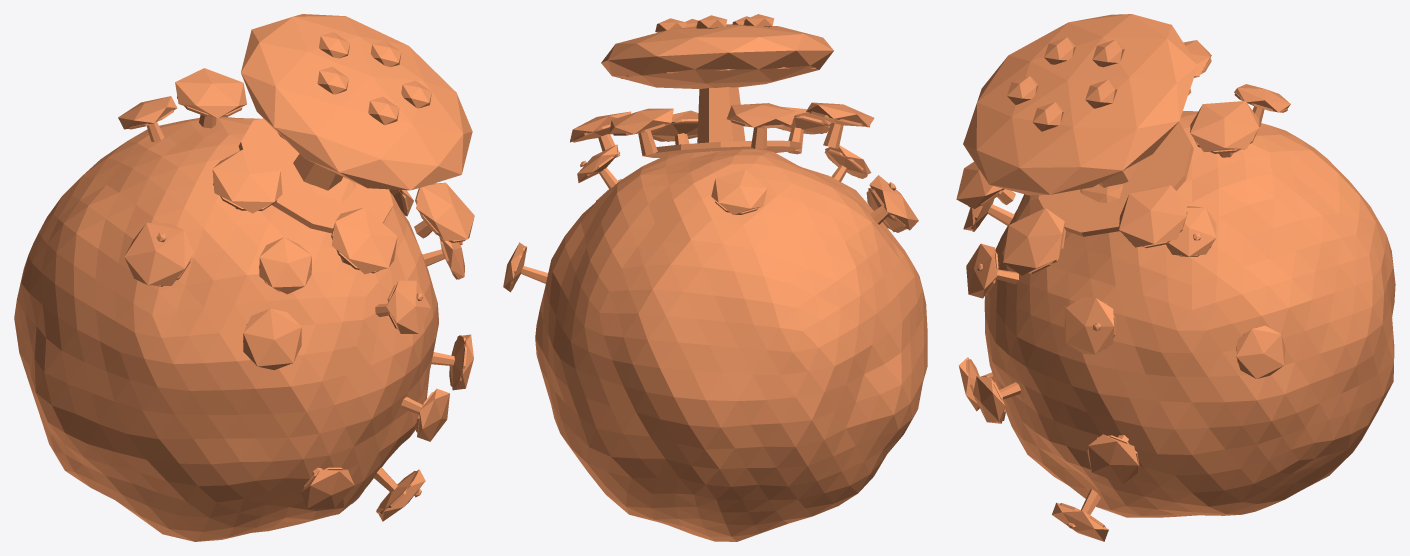
The model's file is Mushroom_10.fbx.
3 renders of one model, left to right at view 1: azimuth 30°, elevation 25°; view 2: azimuth 150°, elevation 25°; view 3: azimuth 270°, elevation 25°, orthographic. The views are drawn at different scales.
Parts seen in each view (by area): view 1: Mushroom_10; view 2: Mushroom_10; view 3: Mushroom_10.
Boxes of the visible parts, box(x1,y1,x2,y2) form: Mushroom_10: box(14, 14, 474, 541); Mushroom_10: box(503, 14, 927, 541); Mushroom_10: box(956, 14, 1395, 541).
Size of the model in its own units: 6.5 by 7.87 by 6.4.
